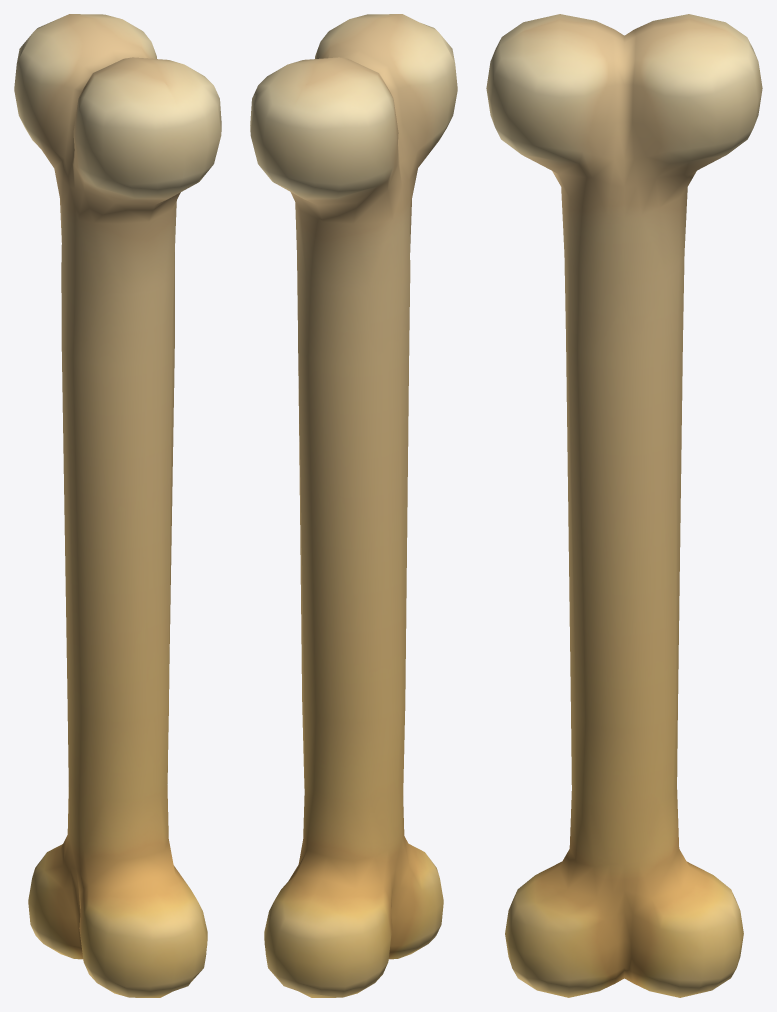
The model's file is Chicken_Bone.fbx.
The picture shows the model from 3 angles, left to right: view 1: azimuth 30°, elevation 25°; view 2: azimuth 150°, elevation 25°; view 3: azimuth 270°, elevation 25°; orthographic projection. The views are drawn at different scales.
Parts seen in each view (by area): view 1: Chicken_Bone; view 2: Chicken_Bone; view 3: Chicken_Bone.
Boxes of the visible parts, <box> form: Chicken_Bone: <box>14,14,221,997</box>; Chicken_Bone: <box>250,14,457,997</box>; Chicken_Bone: <box>486,14,762,997</box>.
Size of the model in its own units: 314 by 2200 by 569.
